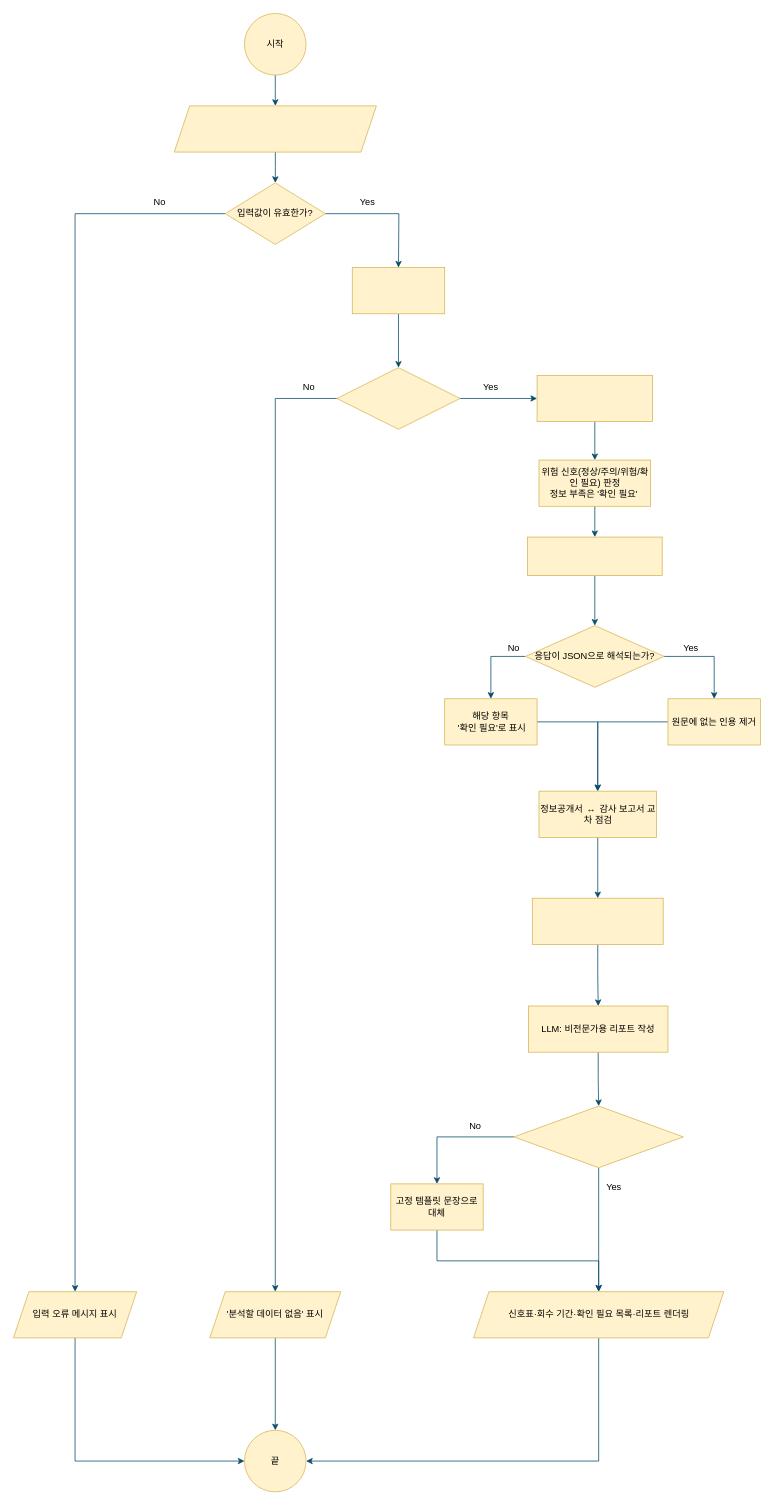
Some shapes in this 774 by 1505 pixel diagram are drawn without their labels. The box of each missing label's shape, as (x1, y1, x2, y2) in pixels:
CSV 5종에서 브랜드 데이터 적재: (352, 267, 445, 314)
LLM: 특수관계자 거래·불리 조항 추출: (527, 536, 662, 576)
리포트 응답 형식이 올바른가?: (513, 1105, 683, 1168)
브랜드 데이터가 있는가?: (336, 367, 460, 429)
브랜드·지역·투자 조건·사용자 유형 입력: (173, 105, 376, 152)
제무 지표·계약 해지율 계산: (536, 375, 653, 422)
지역 평균매출 선택 보수·평균·낙관 시나리오별 회수 기간 계산: (532, 897, 663, 944)
